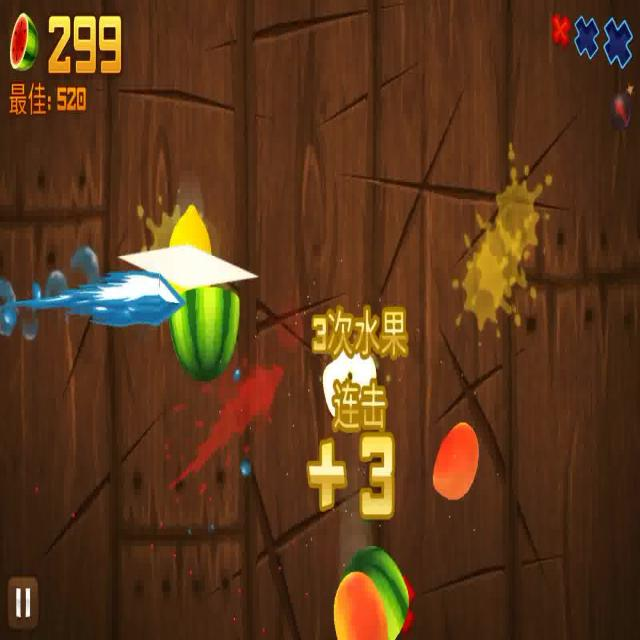fruit: (162, 270, 246, 379), (342, 544, 418, 635), (309, 328, 381, 422), (430, 413, 482, 509), (323, 576, 389, 640), (173, 208, 218, 262)
